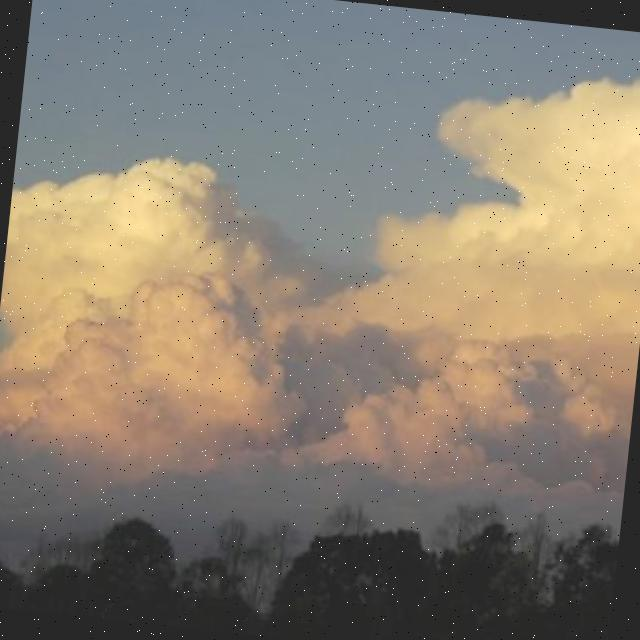Cb: (1, 22, 640, 510)
